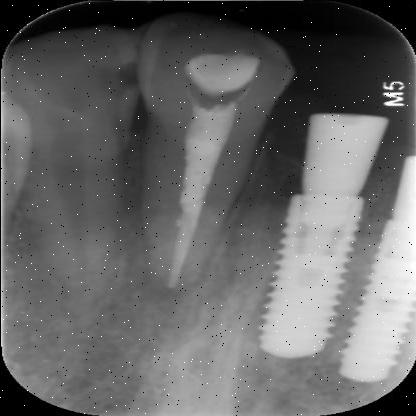ITI: (228, 188, 338, 360), (329, 206, 413, 384)
